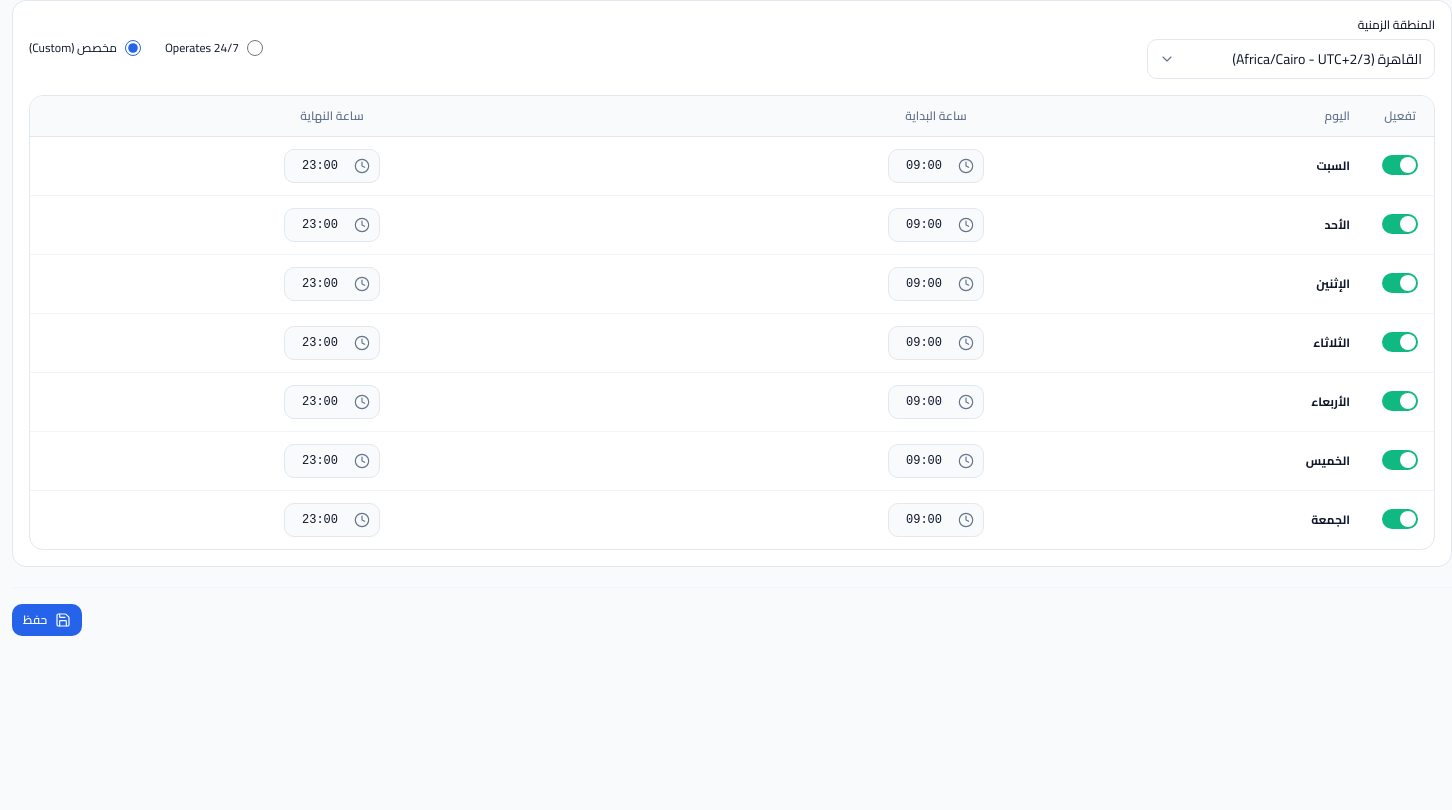
Test: WorkingHoursEditor Component Unit Tests › should disable a day times when its activation toggle is off
The width and height of the screenshot is (1452, 810).
Click the switch named "تفعيل السبت".
click(1400, 165)  # box [1382, 155, 1418, 175]
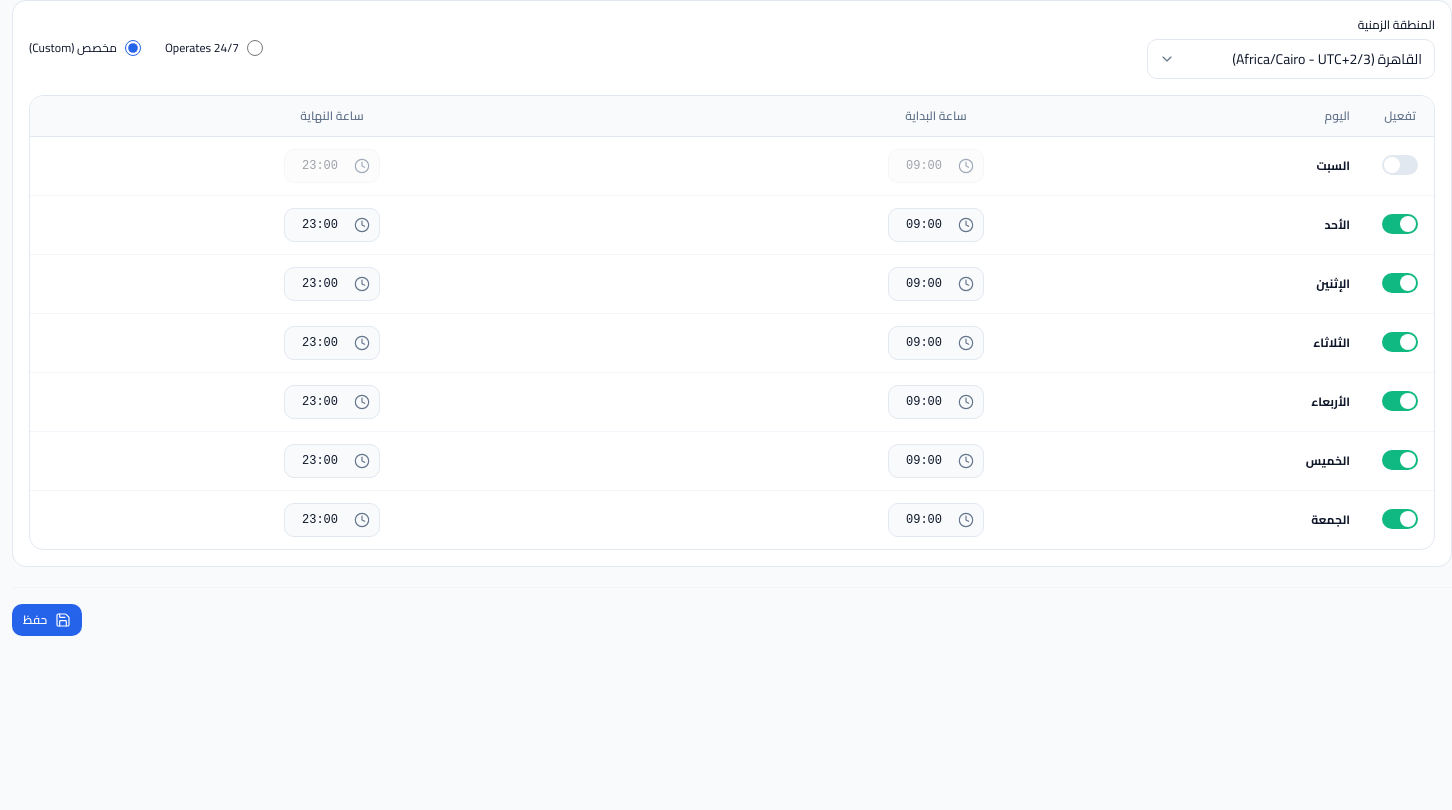
Now the field named "السبت، ساعة البداية" is disabled, box [888, 149, 984, 183]
Now the field named "السبت، ساعة النهاية" is disabled, box [284, 149, 380, 183]
